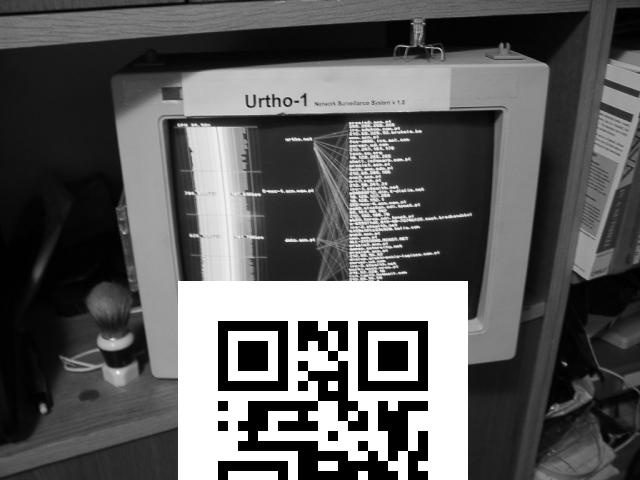qr_code: (179, 281, 467, 480)
